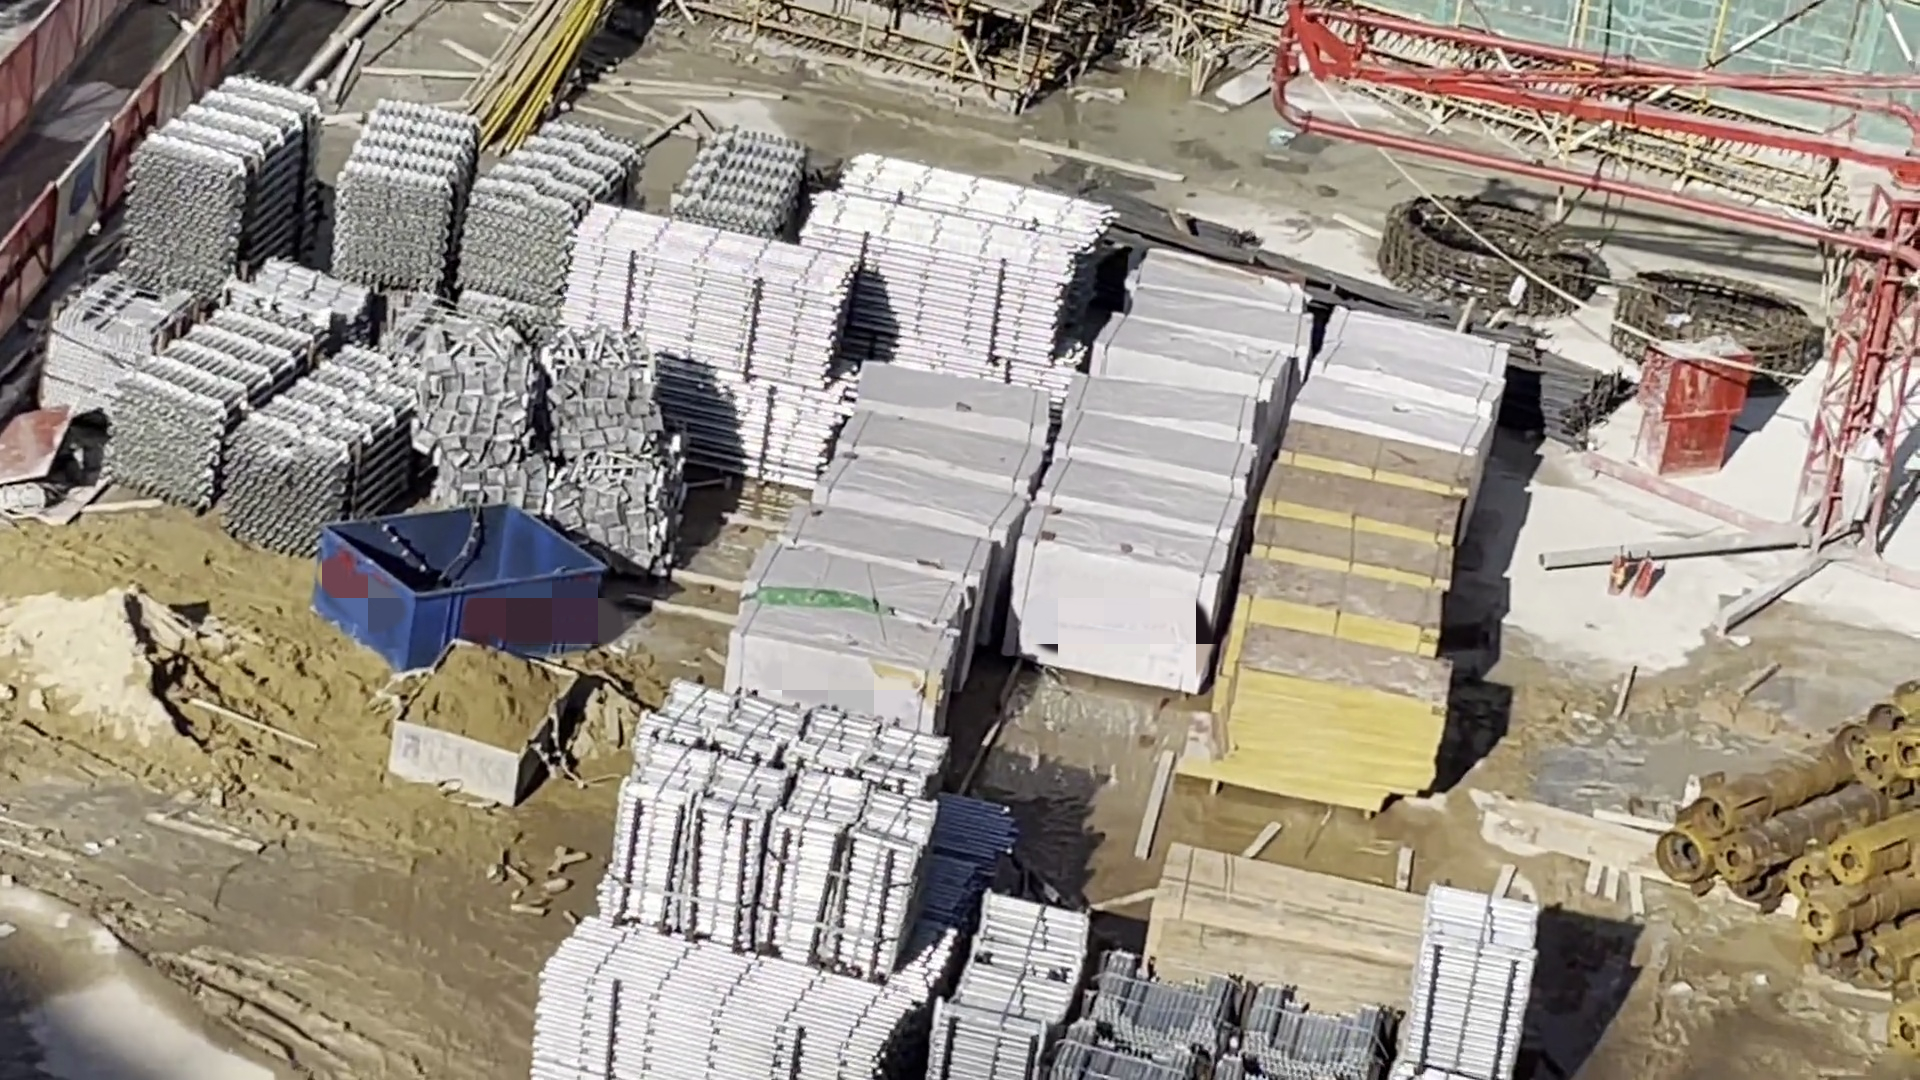board: (1224, 644, 1469, 802), (1271, 436, 1466, 551), (1218, 587, 1449, 649), (1249, 546, 1458, 556)
fence: (3, 1, 86, 160), (84, 66, 161, 208)
hopper: (368, 473, 604, 684)
rebar: (1643, 671, 1920, 1021), (1114, 206, 1341, 291), (1523, 327, 1623, 458)
scaffold: (531, 907, 906, 1065), (663, 707, 899, 949), (841, 152, 1101, 357), (618, 222, 814, 469), (47, 231, 319, 404), (916, 808, 1071, 1077), (141, 339, 393, 477), (138, 66, 323, 251), (1069, 959, 1331, 1080), (678, 113, 855, 276), (338, 105, 487, 294), (1391, 902, 1526, 1080), (451, 149, 564, 309)
wood: (1081, 807, 1437, 1029)
